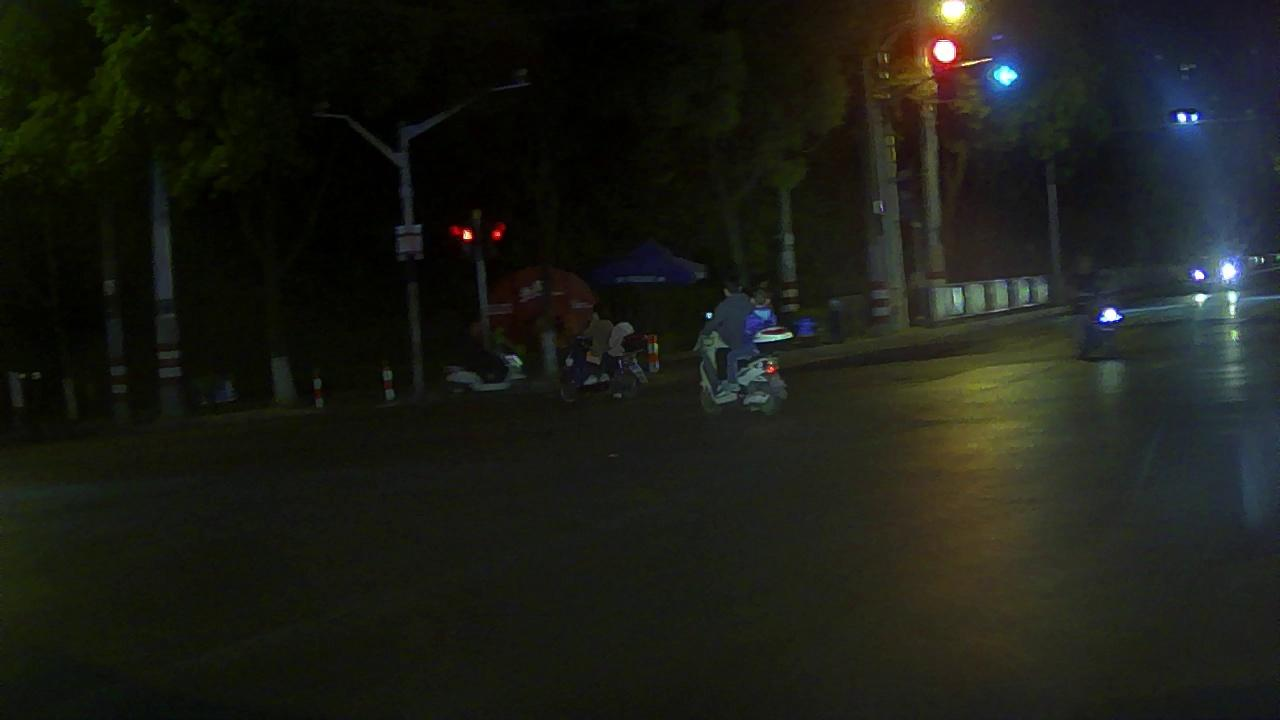traffic_light: (922, 29, 966, 75), (980, 55, 1026, 93)
